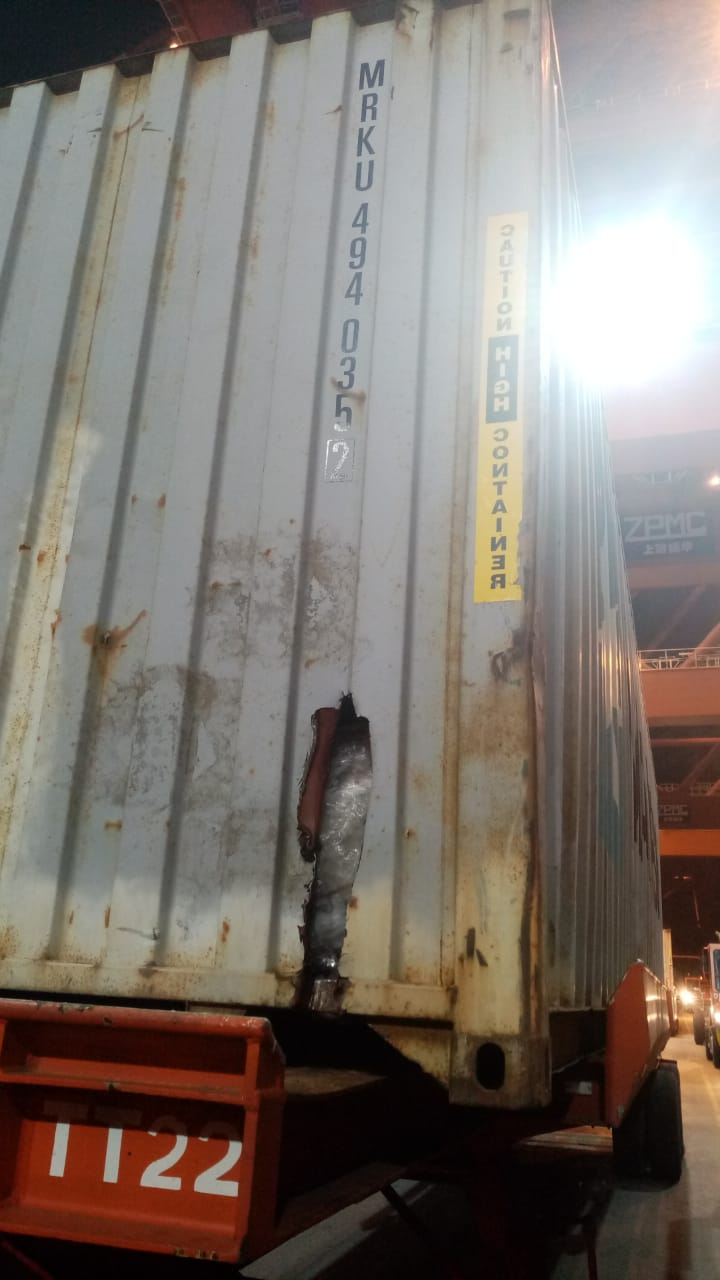severe: (274, 658, 403, 1007)
